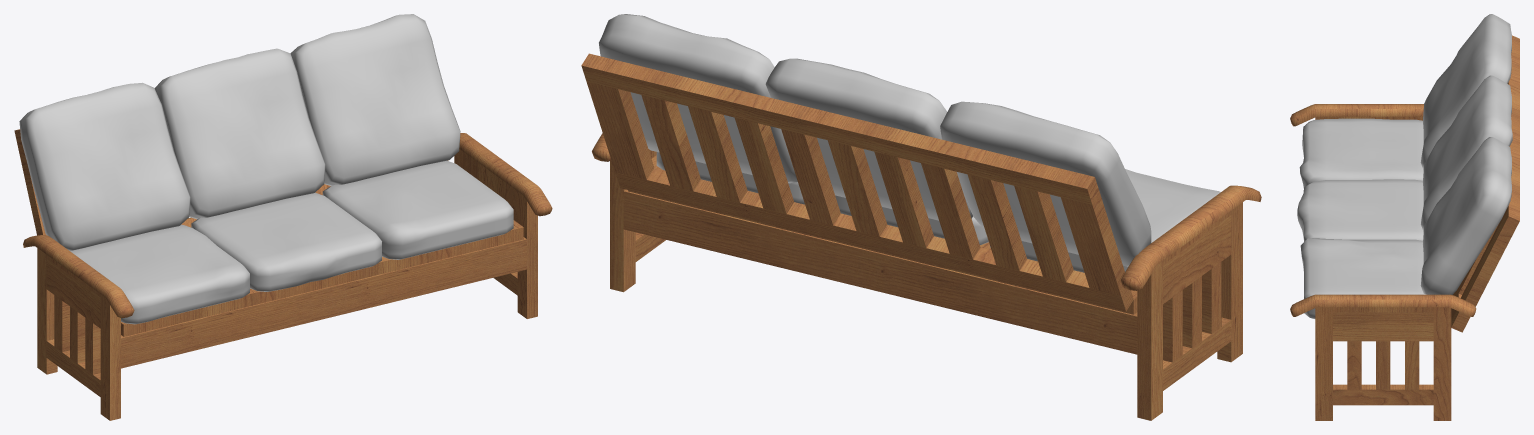
Rendered from Wooden Couch.FBX.
The picture shows the model from 3 angles, left to right: view 1: azimuth 30°, elevation 25°; view 2: azimuth 150°, elevation 25°; view 3: azimuth 270°, elevation 25°; orthographic projection. The views are drawn at different scales.
Parts seen in each view (by area): view 1: Cushions, Couch; view 2: Couch, Cushions; view 3: Cushions, Couch.
Boxes of the visible parts, x1,y1,x2,y2 form: Cushions: (19, 14, 513, 324); Couch: (14, 129, 552, 420); Couch: (581, 53, 1261, 420); Cushions: (599, 14, 1220, 272); Cushions: (1297, 14, 1512, 318); Couch: (1290, 35, 1519, 420).
Size of the model in its own units: 176 by 93.83 by 86.1.
